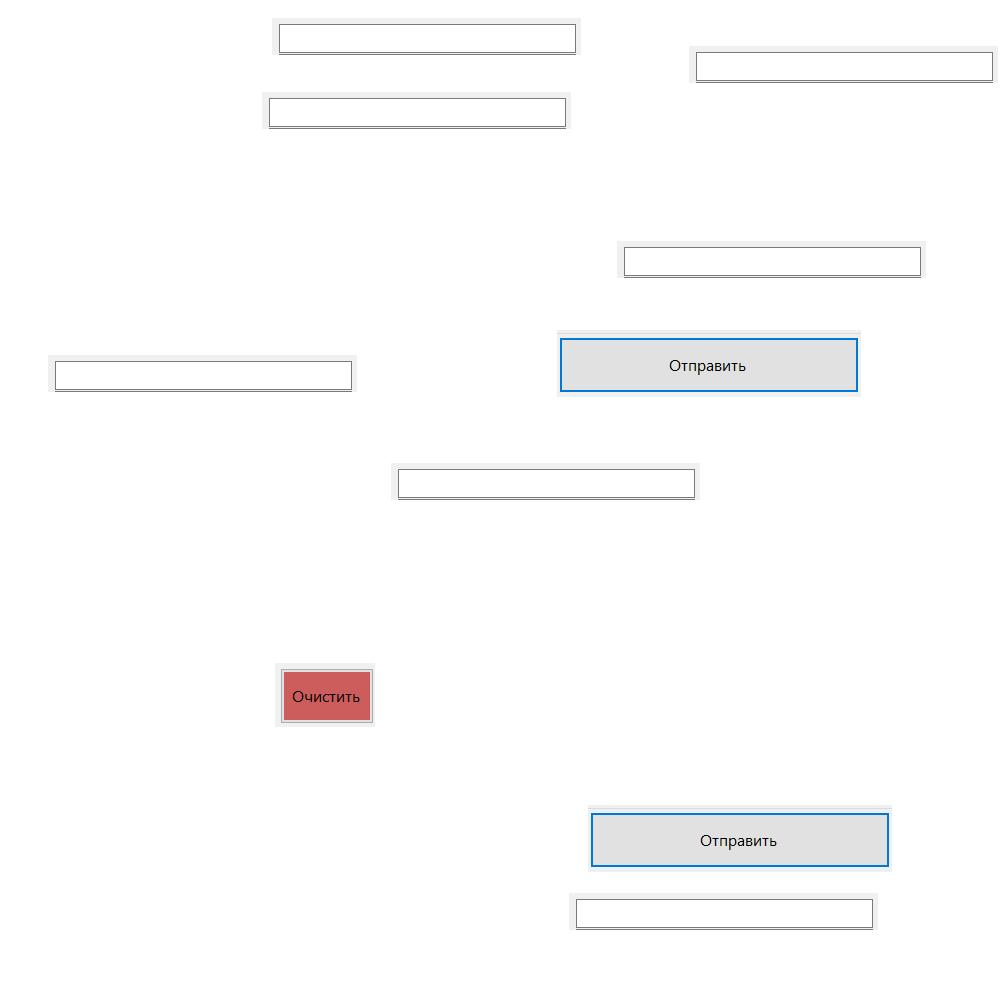Button: (557, 330, 861, 397), (588, 805, 892, 872), (275, 663, 375, 727)
EditText-: (689, 46, 998, 83), (569, 893, 878, 930), (391, 463, 700, 500), (48, 355, 357, 392), (262, 92, 571, 129), (272, 18, 581, 55), (617, 241, 926, 278)
